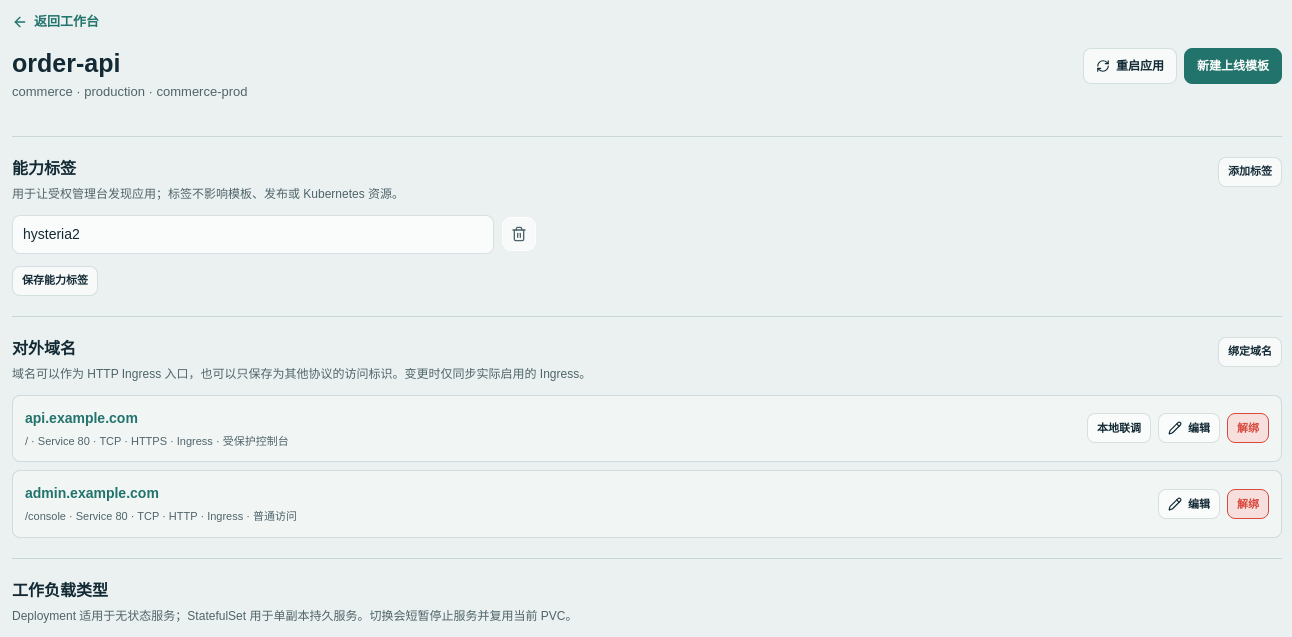
ApplicationDetails view › allows an empty capability list and shows capability API errors
Click the button with class "icon-button" at (519,234), box [502, 217, 536, 251]
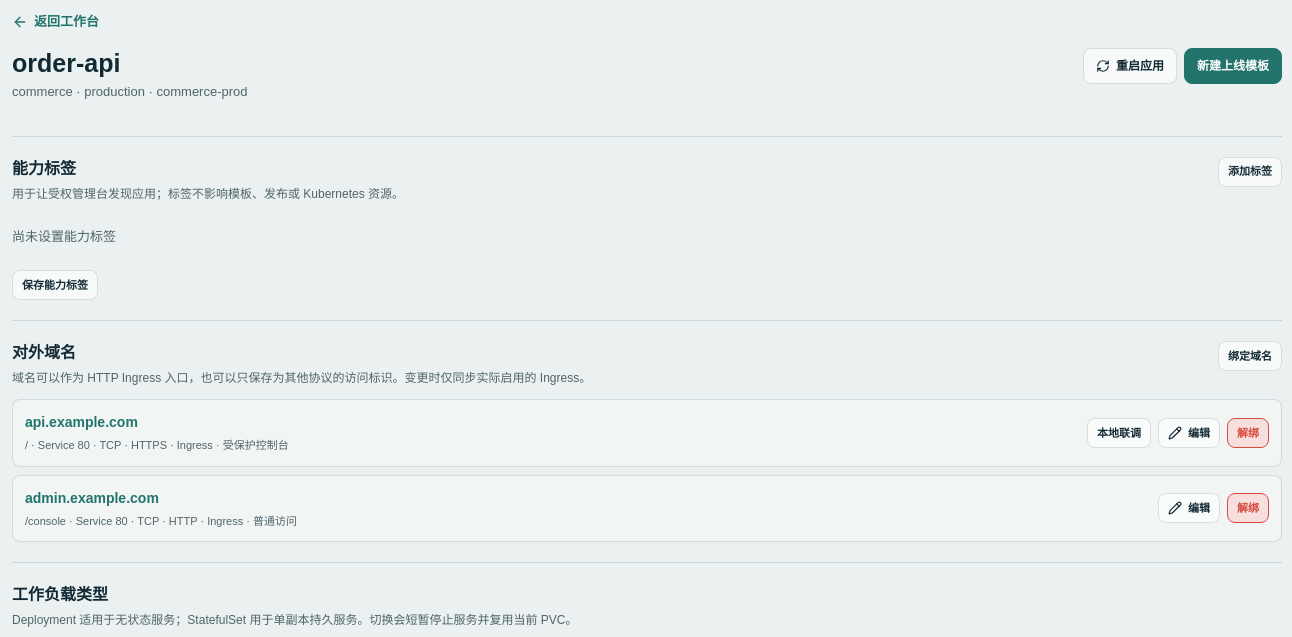
Click the button "保存能力标签" at (55,285), box [12, 270, 98, 300]
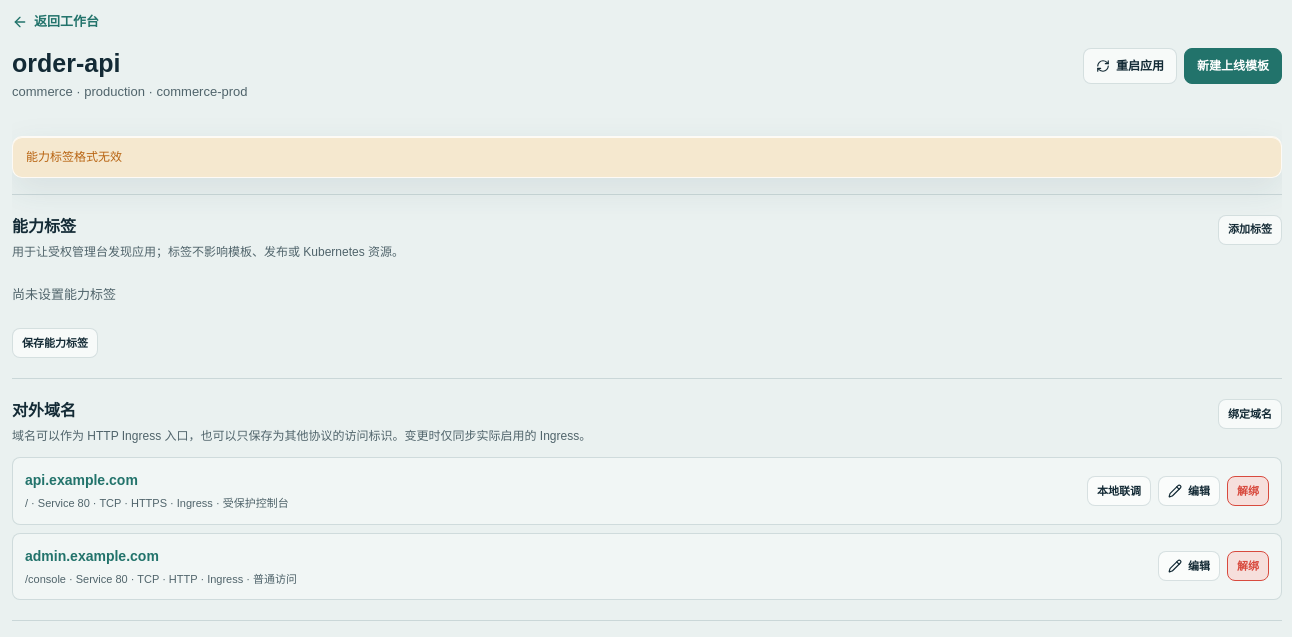
Now the text "能力标签格式无效" is shown, box [12, 136, 1282, 178]
